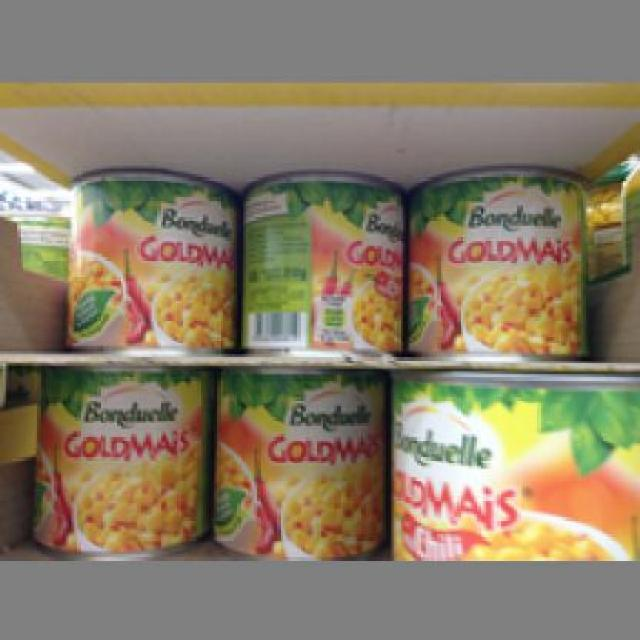Corn: (386, 368, 634, 558), (400, 163, 589, 354), (26, 363, 206, 551), (203, 368, 383, 554), (234, 172, 403, 354), (66, 165, 234, 348)
